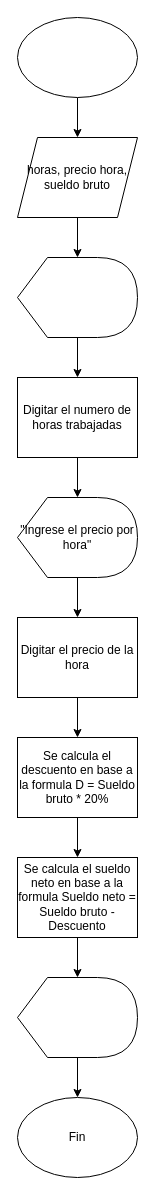
Some shapes in this 155 by 1195 pixel diagram are drawn without their labels. Each missing label, with the centre of its shape:
"El sueldo neto es: n": (77,1017)
"Ingrese el numero de horas trabajadas": (77,297)
Inicio: (77,57)
